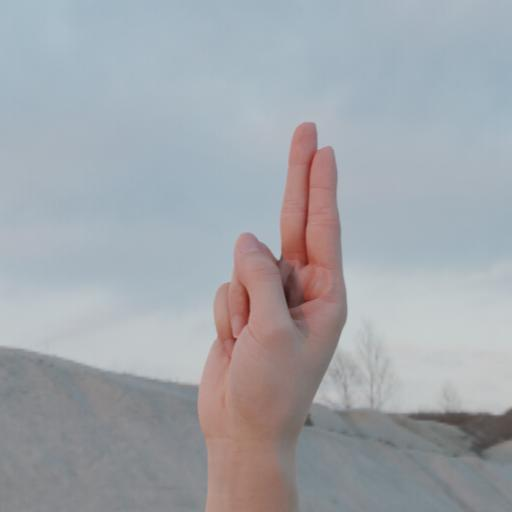U: (191, 109, 355, 476)
